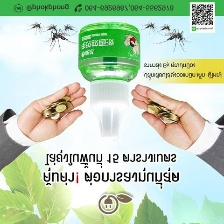insecticide: (73, 19, 142, 142)
